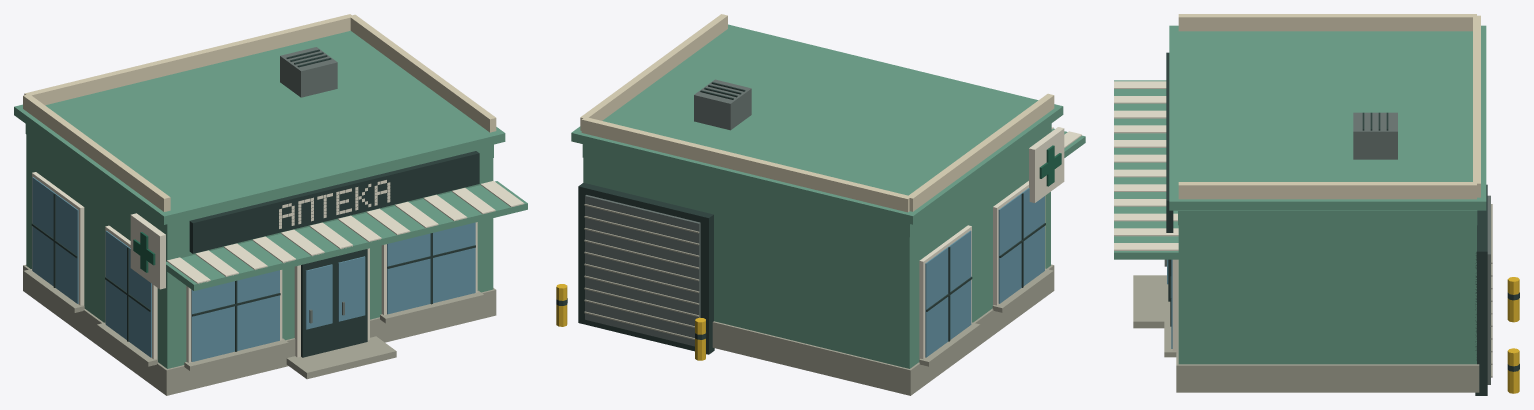
Rendered from Pharmacy.obj.
3 renders of one model, left to right at view 1: azimuth 30°, elevation 25°; view 2: azimuth 150°, elevation 25°; view 3: azimuth 270°, elevation 25°, orthographic. The views are drawn at different scales.
Parts seen in each view (by area): view 1: Pharmacy; view 2: Pharmacy; view 3: Pharmacy.
Part boxes in pixels (x1,y1,x2,y2): Pharmacy: [14, 14, 527, 395]; Pharmacy: [556, 14, 1085, 395]; Pharmacy: [1114, 14, 1519, 395].
Size of the model in its own units: 8.53 by 5.06 by 8.17.
